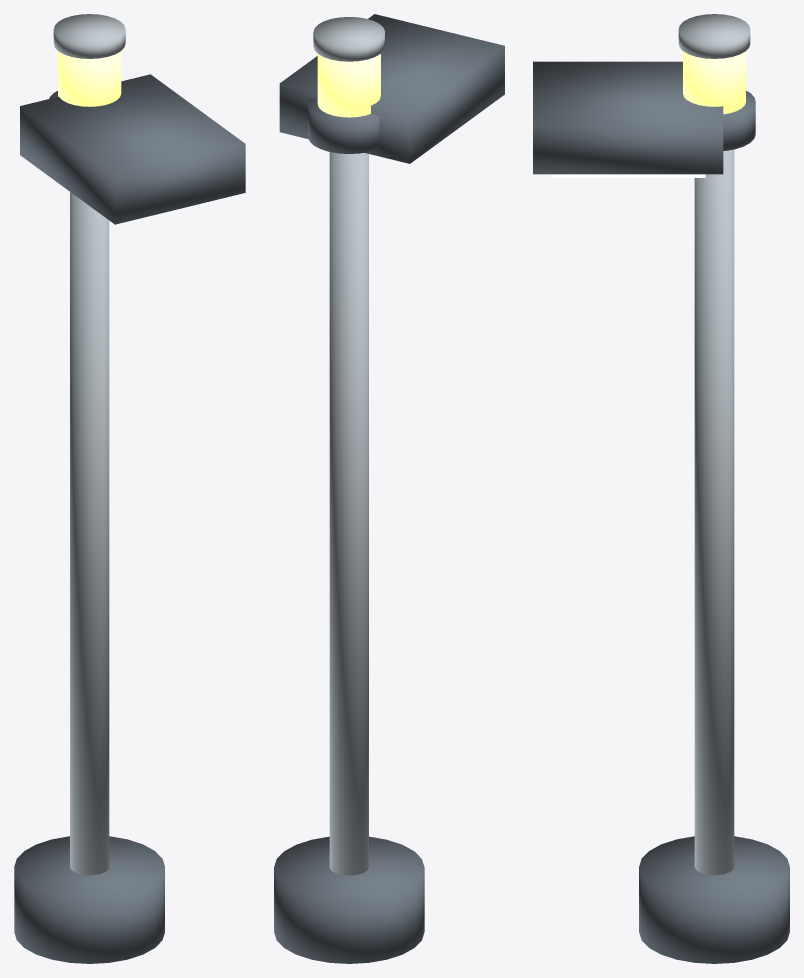
File: light_pole_enhanced.glb
3 renders of one model, left to right at view 1: azimuth 30°, elevation 25°; view 2: azimuth 150°, elevation 25°; view 3: azimuth 270°, elevation 25°, orthographic.
Parts seen in each view (by area): view 1: Pole_steel, Lamp_dark, Base_dark, StatusLight_warn, Beacon_steel; view 2: Pole_steel, Base_dark, Lamp_dark, StatusLight_warn, Beacon_steel, Beacon_dark; view 3: Pole_steel, Lamp_dark, Base_dark, StatusLight_warn, Beacon_steel, Beacon_dark, Lamp_ink.
Boxes of the visible parts, x1,y1,x2,y2 form: Pole_steel: (70, 192, 109, 875); Lamp_dark: (20, 74, 245, 224); Base_dark: (14, 836, 164, 963); StatusLight_warn: (58, 51, 121, 106); Beacon_steel: (53, 14, 125, 58); Pole_steel: (329, 152, 368, 875); Base_dark: (274, 836, 424, 963); Lamp_dark: (279, 14, 504, 163); StatusLight_warn: (317, 54, 380, 117); Beacon_steel: (313, 17, 384, 61); Beacon_dark: (308, 99, 379, 153); Pole_steel: (694, 149, 734, 875); Lamp_dark: (533, 61, 723, 174); Base_dark: (639, 836, 789, 963); StatusLight_warn: (683, 51, 745, 114); Beacon_steel: (678, 14, 750, 58); Beacon_dark: (723, 90, 755, 150); Lamp_ink: (551, 174, 705, 177).
Size of the model in its own units: 0.42 by 2.77 by 0.715.
